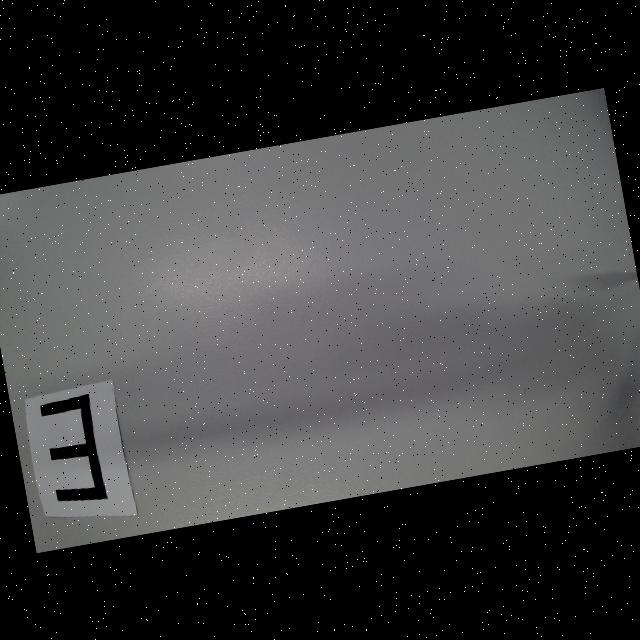FAKE: (39, 392, 109, 508)
